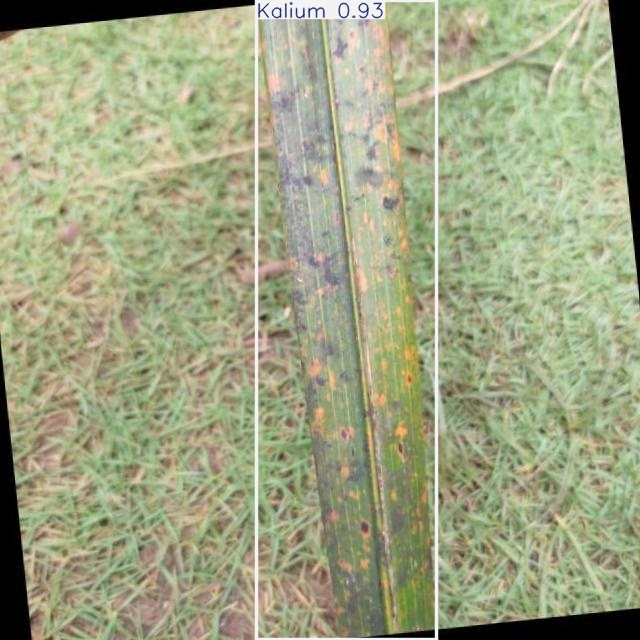Kalium: (257, 1, 437, 639)
